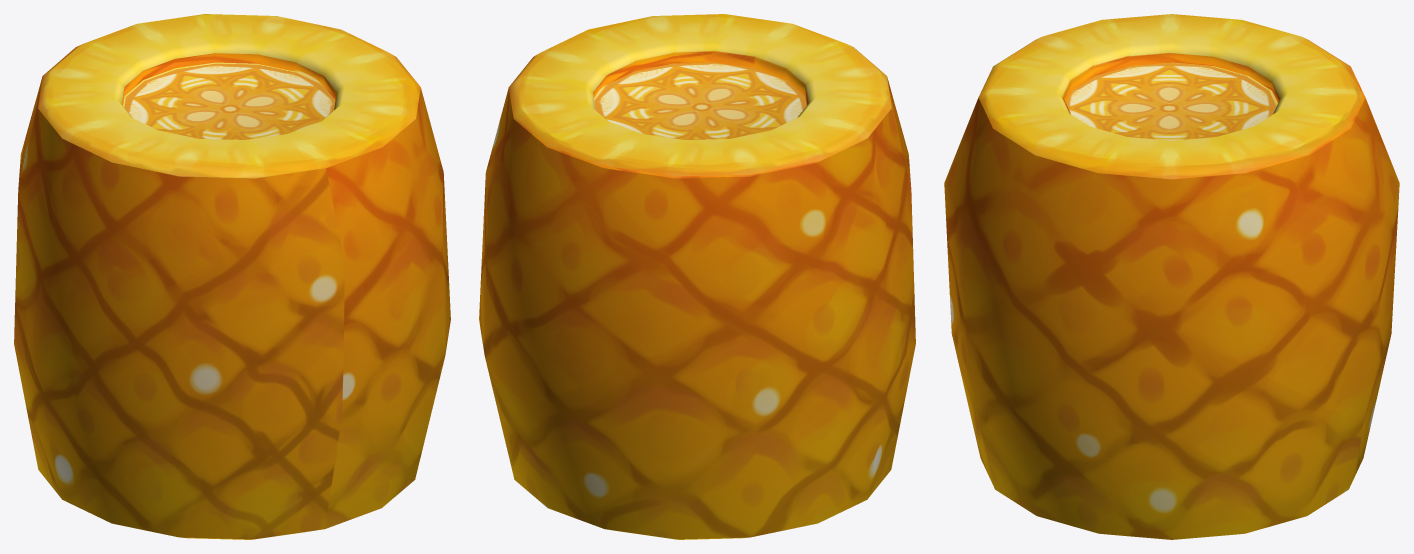
Rendered from BG_PineAppleChair1.fbx.
3 views of the same model, side by side, from view 1: azimuth 30°, elevation 25°; view 2: azimuth 150°, elevation 25°; view 3: azimuth 270°, elevation 25° (orthographic).
Visible parts, largest first — view 1: PineAppleChair1; view 2: PineAppleChair1; view 3: PineAppleChair1.
Part boxes in pixels (left/top/right/bottom): PineAppleChair1: left=14, top=14, right=450, bottom=539; PineAppleChair1: left=479, top=14, right=915, bottom=539; PineAppleChair1: left=944, top=14, right=1399, bottom=539.
Size of the model in its own units: 36.43 by 35.31 by 37.73.
